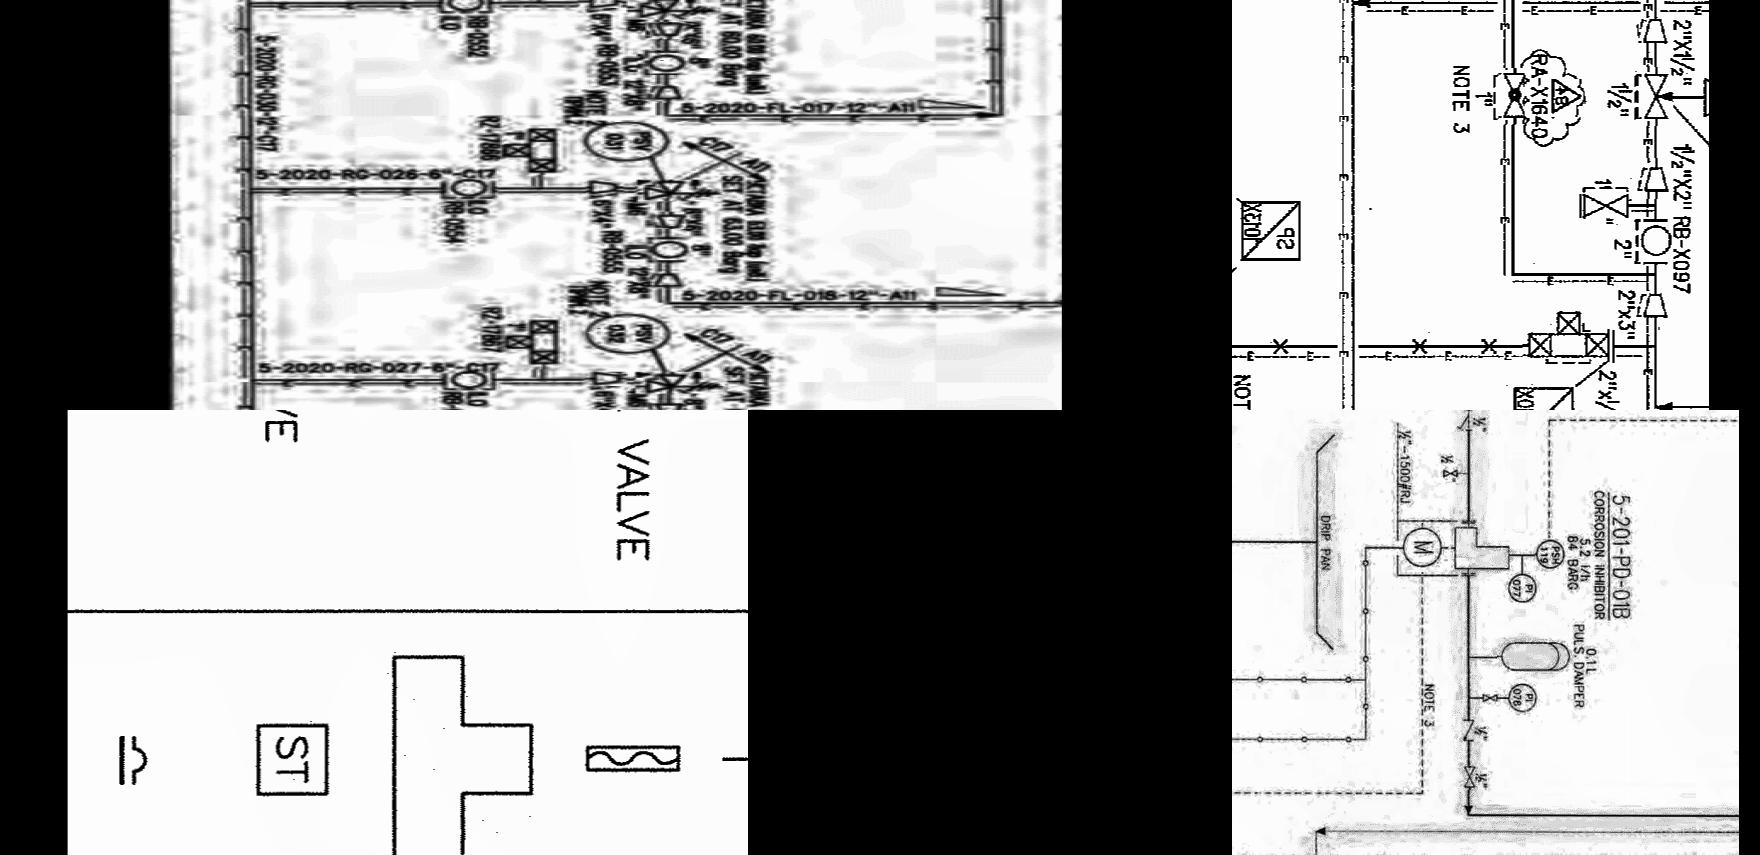2 WAY VALVE: (1522, 311, 1608, 368), (501, 316, 563, 370), (503, 123, 566, 175)
ANGLE RELIEF VALVE: (633, 373, 726, 395), (634, 180, 721, 202), (626, 0, 719, 19)
BURSTING DISK: (120, 728, 153, 792)
CONCENTRIC REDUCER: (1637, 157, 1672, 199), (1639, 13, 1669, 55), (1639, 284, 1669, 322), (642, 22, 691, 40), (642, 84, 685, 102), (585, 180, 622, 197), (649, 211, 685, 229), (583, 371, 625, 386), (651, 270, 684, 288), (577, 0, 621, 9), (647, 399, 685, 410)
DIAPHRAGM SEAL: (578, 741, 686, 779)
DRUM AND PRESSURE VESSEL: (1496, 640, 1571, 675)
FIELD INSTRUMENT: (583, 121, 671, 164), (587, 313, 671, 353), (1397, 524, 1448, 574), (1632, 222, 1672, 261), (638, 50, 688, 76), (642, 238, 691, 264), (1503, 682, 1539, 715), (442, 177, 496, 199), (1505, 574, 1538, 607), (439, 371, 495, 389), (1533, 540, 1565, 571), (436, 0, 491, 16)
GATE VALVE: (1634, 67, 1671, 127), (1577, 186, 1631, 223), (1433, 465, 1461, 482), (1459, 767, 1476, 791), (1473, 692, 1498, 707)
GLOBE VALVE: (1496, 68, 1523, 126)
PIG TEE: (387, 647, 539, 855)
REVISION TRIANGLE: (1549, 79, 1585, 117)
SPECIAL PIPING ITEM: (1235, 197, 1305, 272), (1505, 381, 1574, 410)
STEM TRAP: (253, 718, 338, 801)
